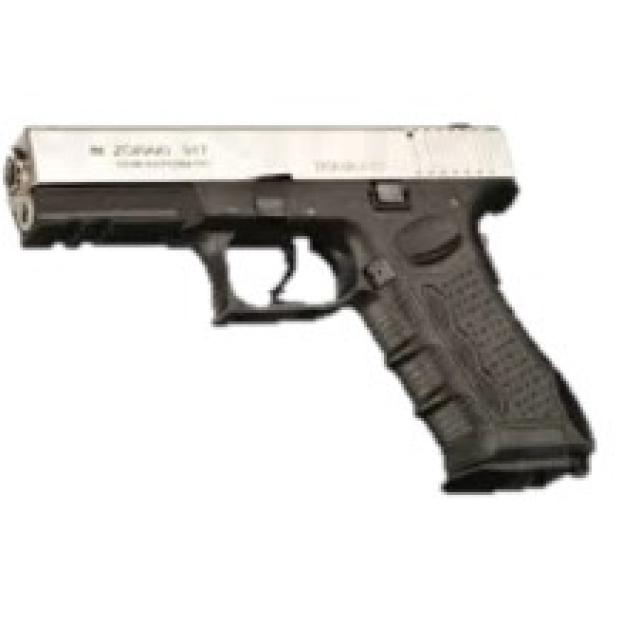pistol: (1, 104, 597, 509)
